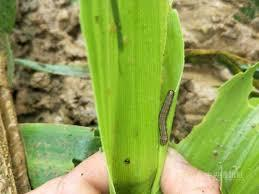fallarmy_worm: (156, 85, 178, 154)
